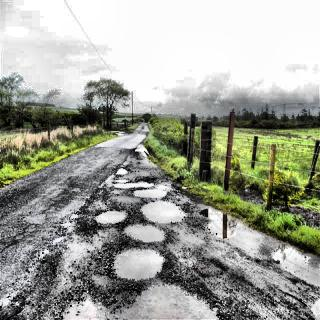pothole: (117, 280, 220, 320), (106, 242, 167, 285), (270, 242, 320, 288), (198, 205, 246, 240), (63, 286, 111, 320), (138, 200, 188, 226), (124, 221, 168, 245), (94, 204, 130, 226), (130, 186, 170, 200), (112, 178, 155, 190), (110, 164, 130, 180)
